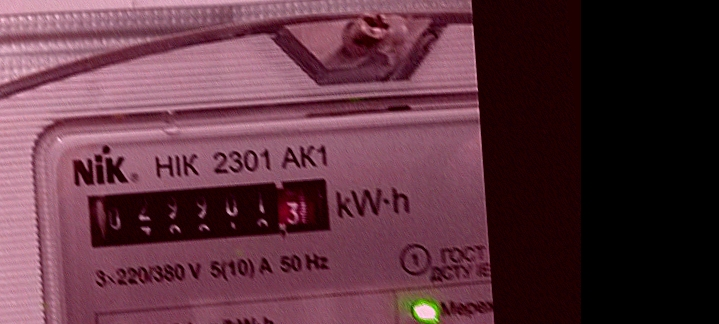0: (221, 189, 239, 219), (103, 203, 122, 231)
1: (252, 186, 267, 215)
2: (132, 195, 152, 223)
3: (282, 199, 300, 226)
9: (162, 193, 180, 221), (193, 192, 208, 220)
screen: (76, 168, 341, 258)
